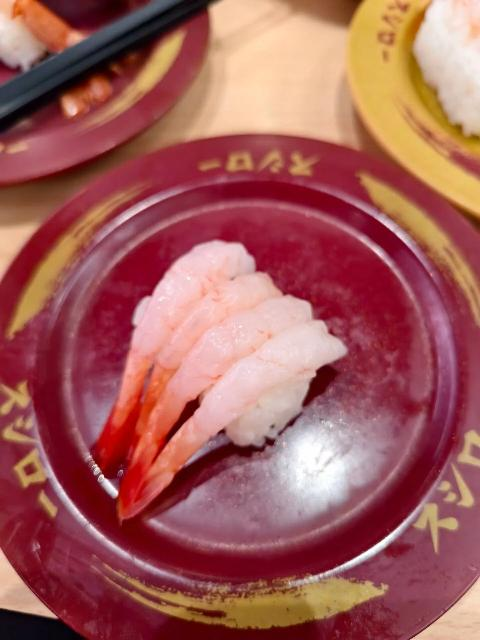jangold: (343, 1, 480, 204)
janred: (0, 161, 480, 640), (0, 0, 217, 136)
